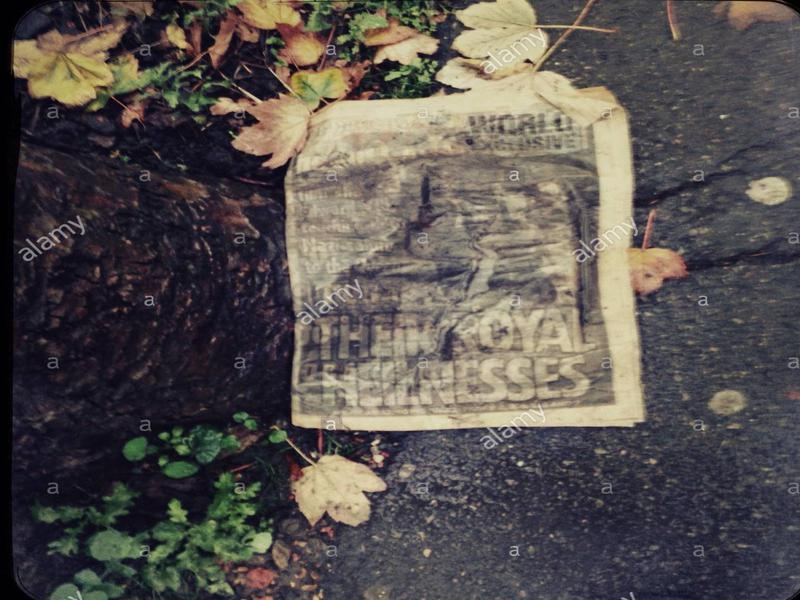leaf: (261, 431, 398, 533), (447, 1, 619, 69), (14, 20, 133, 115), (206, 80, 319, 176), (118, 431, 236, 480)
paper: (279, 74, 654, 437)
